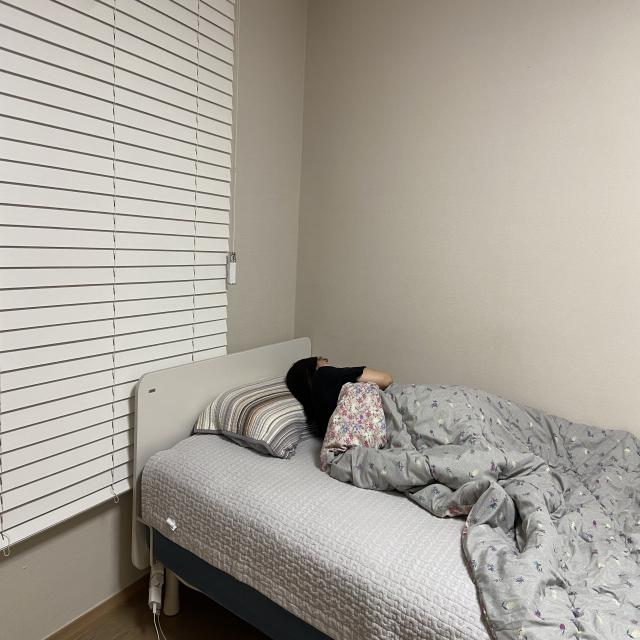people: (273, 333, 640, 568)
